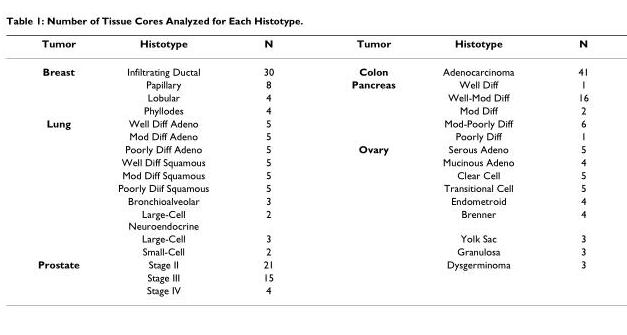table: (36, 36, 588, 295)
table column: (98, 36, 235, 295), (418, 36, 545, 295), (311, 36, 418, 295), (235, 36, 311, 295), (36, 36, 98, 295), (545, 36, 588, 295)
table column header: (36, 36, 588, 56)
table row: (36, 206, 588, 231), (36, 56, 588, 77), (36, 36, 588, 56), (36, 77, 588, 90), (36, 90, 588, 103), (36, 103, 588, 116), (36, 116, 588, 129), (36, 129, 588, 142), (36, 142, 588, 155), (36, 155, 588, 168), (36, 168, 588, 181), (36, 181, 588, 194), (36, 231, 588, 244), (36, 244, 588, 257), (36, 257, 588, 270), (36, 270, 588, 283), (36, 194, 588, 206), (36, 283, 588, 295)
table spanning cell: (36, 116, 98, 257), (36, 56, 98, 116), (36, 257, 98, 295)
